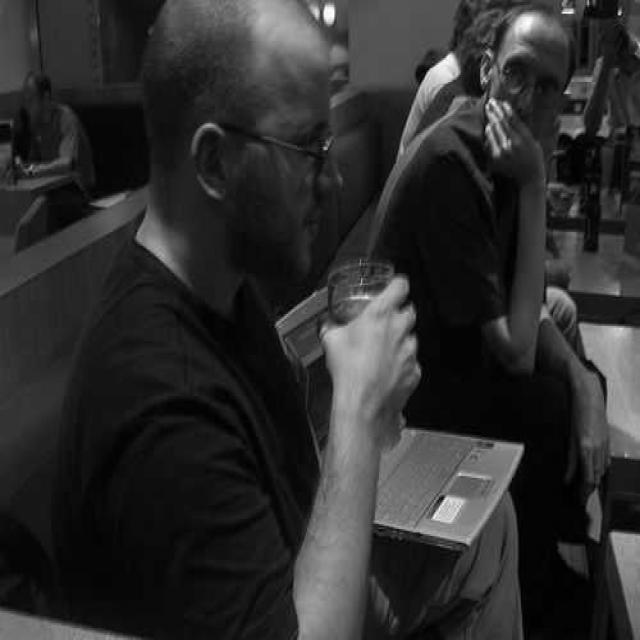laptop: (293, 320, 521, 542)
